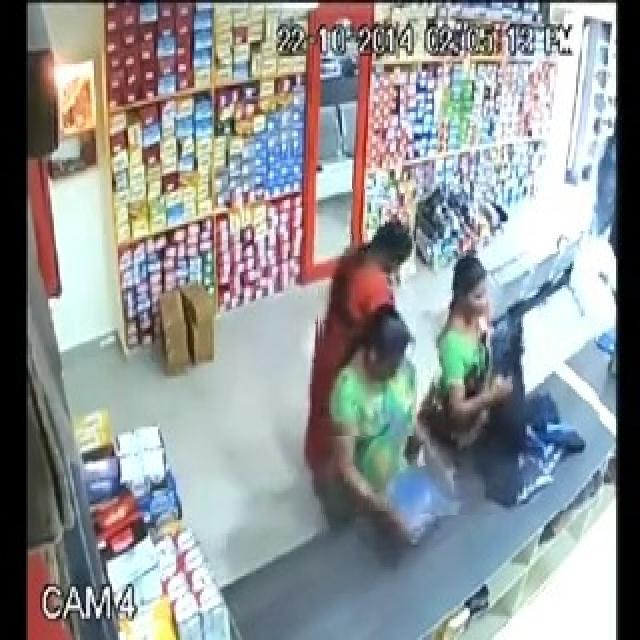normal: (430, 233, 602, 515), (317, 311, 470, 593), (318, 166, 416, 436)
